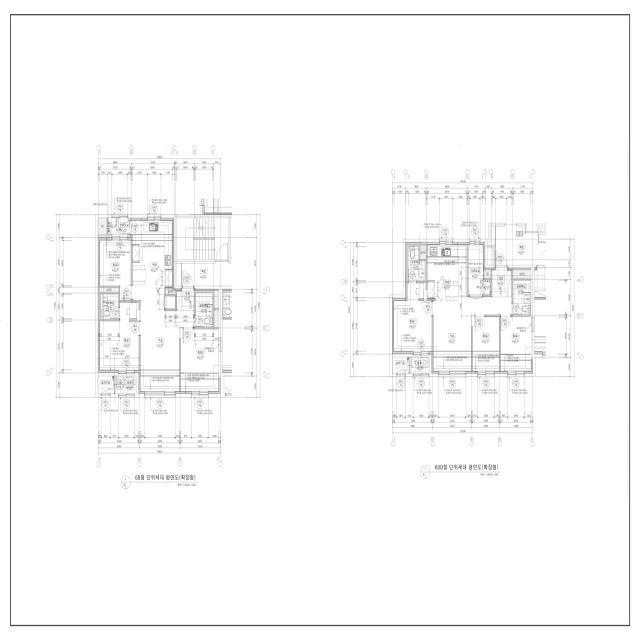space_balconi: (115, 376, 136, 394), (410, 357, 429, 373)
space_bedroom: (98, 293, 139, 373), (392, 283, 432, 354), (179, 329, 221, 394), (98, 238, 132, 301), (500, 317, 533, 374), (472, 317, 500, 374)
space_elevator_hall: (487, 223, 546, 265), (176, 263, 232, 286)
space_front: (492, 267, 512, 297), (176, 288, 195, 311)
space_kitchen: (130, 218, 174, 288), (427, 242, 468, 299)
space_living_room: (132, 288, 194, 394), (431, 297, 512, 374)
space_multipurpose_space: (468, 242, 491, 295), (108, 218, 129, 236)
space_other: (214, 289, 219, 327), (512, 268, 531, 278), (98, 218, 107, 235), (98, 286, 119, 293), (165, 296, 175, 309), (484, 268, 492, 278), (420, 246, 426, 259), (166, 288, 176, 294)
space_outdoor_room: (392, 357, 409, 374), (98, 376, 114, 394)
space_staircase: (176, 218, 229, 260)
space_toilet: (408, 246, 426, 281), (195, 292, 213, 327), (513, 280, 531, 315), (101, 294, 119, 319)
